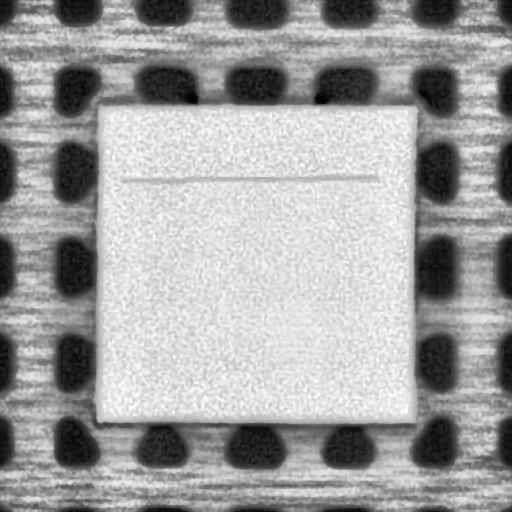DIE_CRACK: (120, 166, 376, 188)
